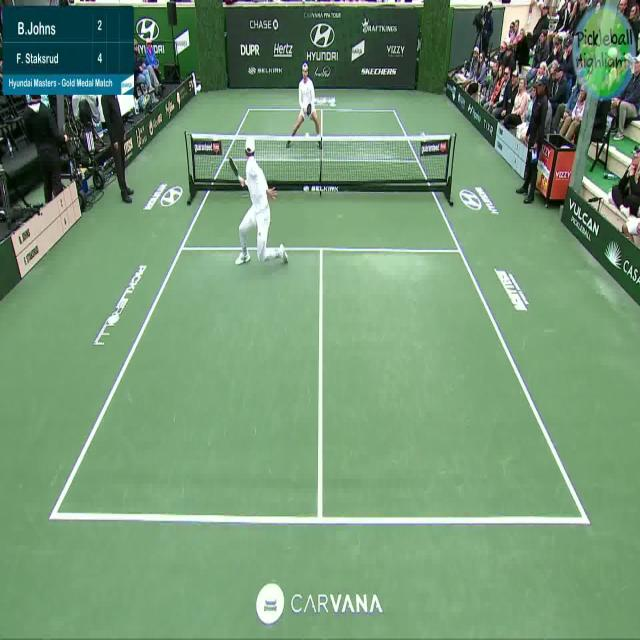Court: (51, 108, 589, 524)
ball: (302, 127, 313, 142)
